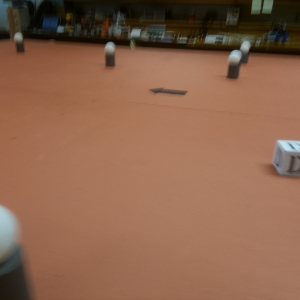blockD: (274, 139, 300, 175)
corner: (9, 7, 20, 36)
obstacle: (1, 200, 25, 299), (227, 49, 239, 78), (104, 43, 115, 69), (239, 43, 250, 62), (14, 32, 23, 52)
start: (150, 85, 187, 97)
